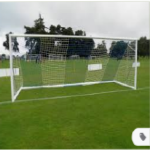goals: (6, 32, 142, 105)
